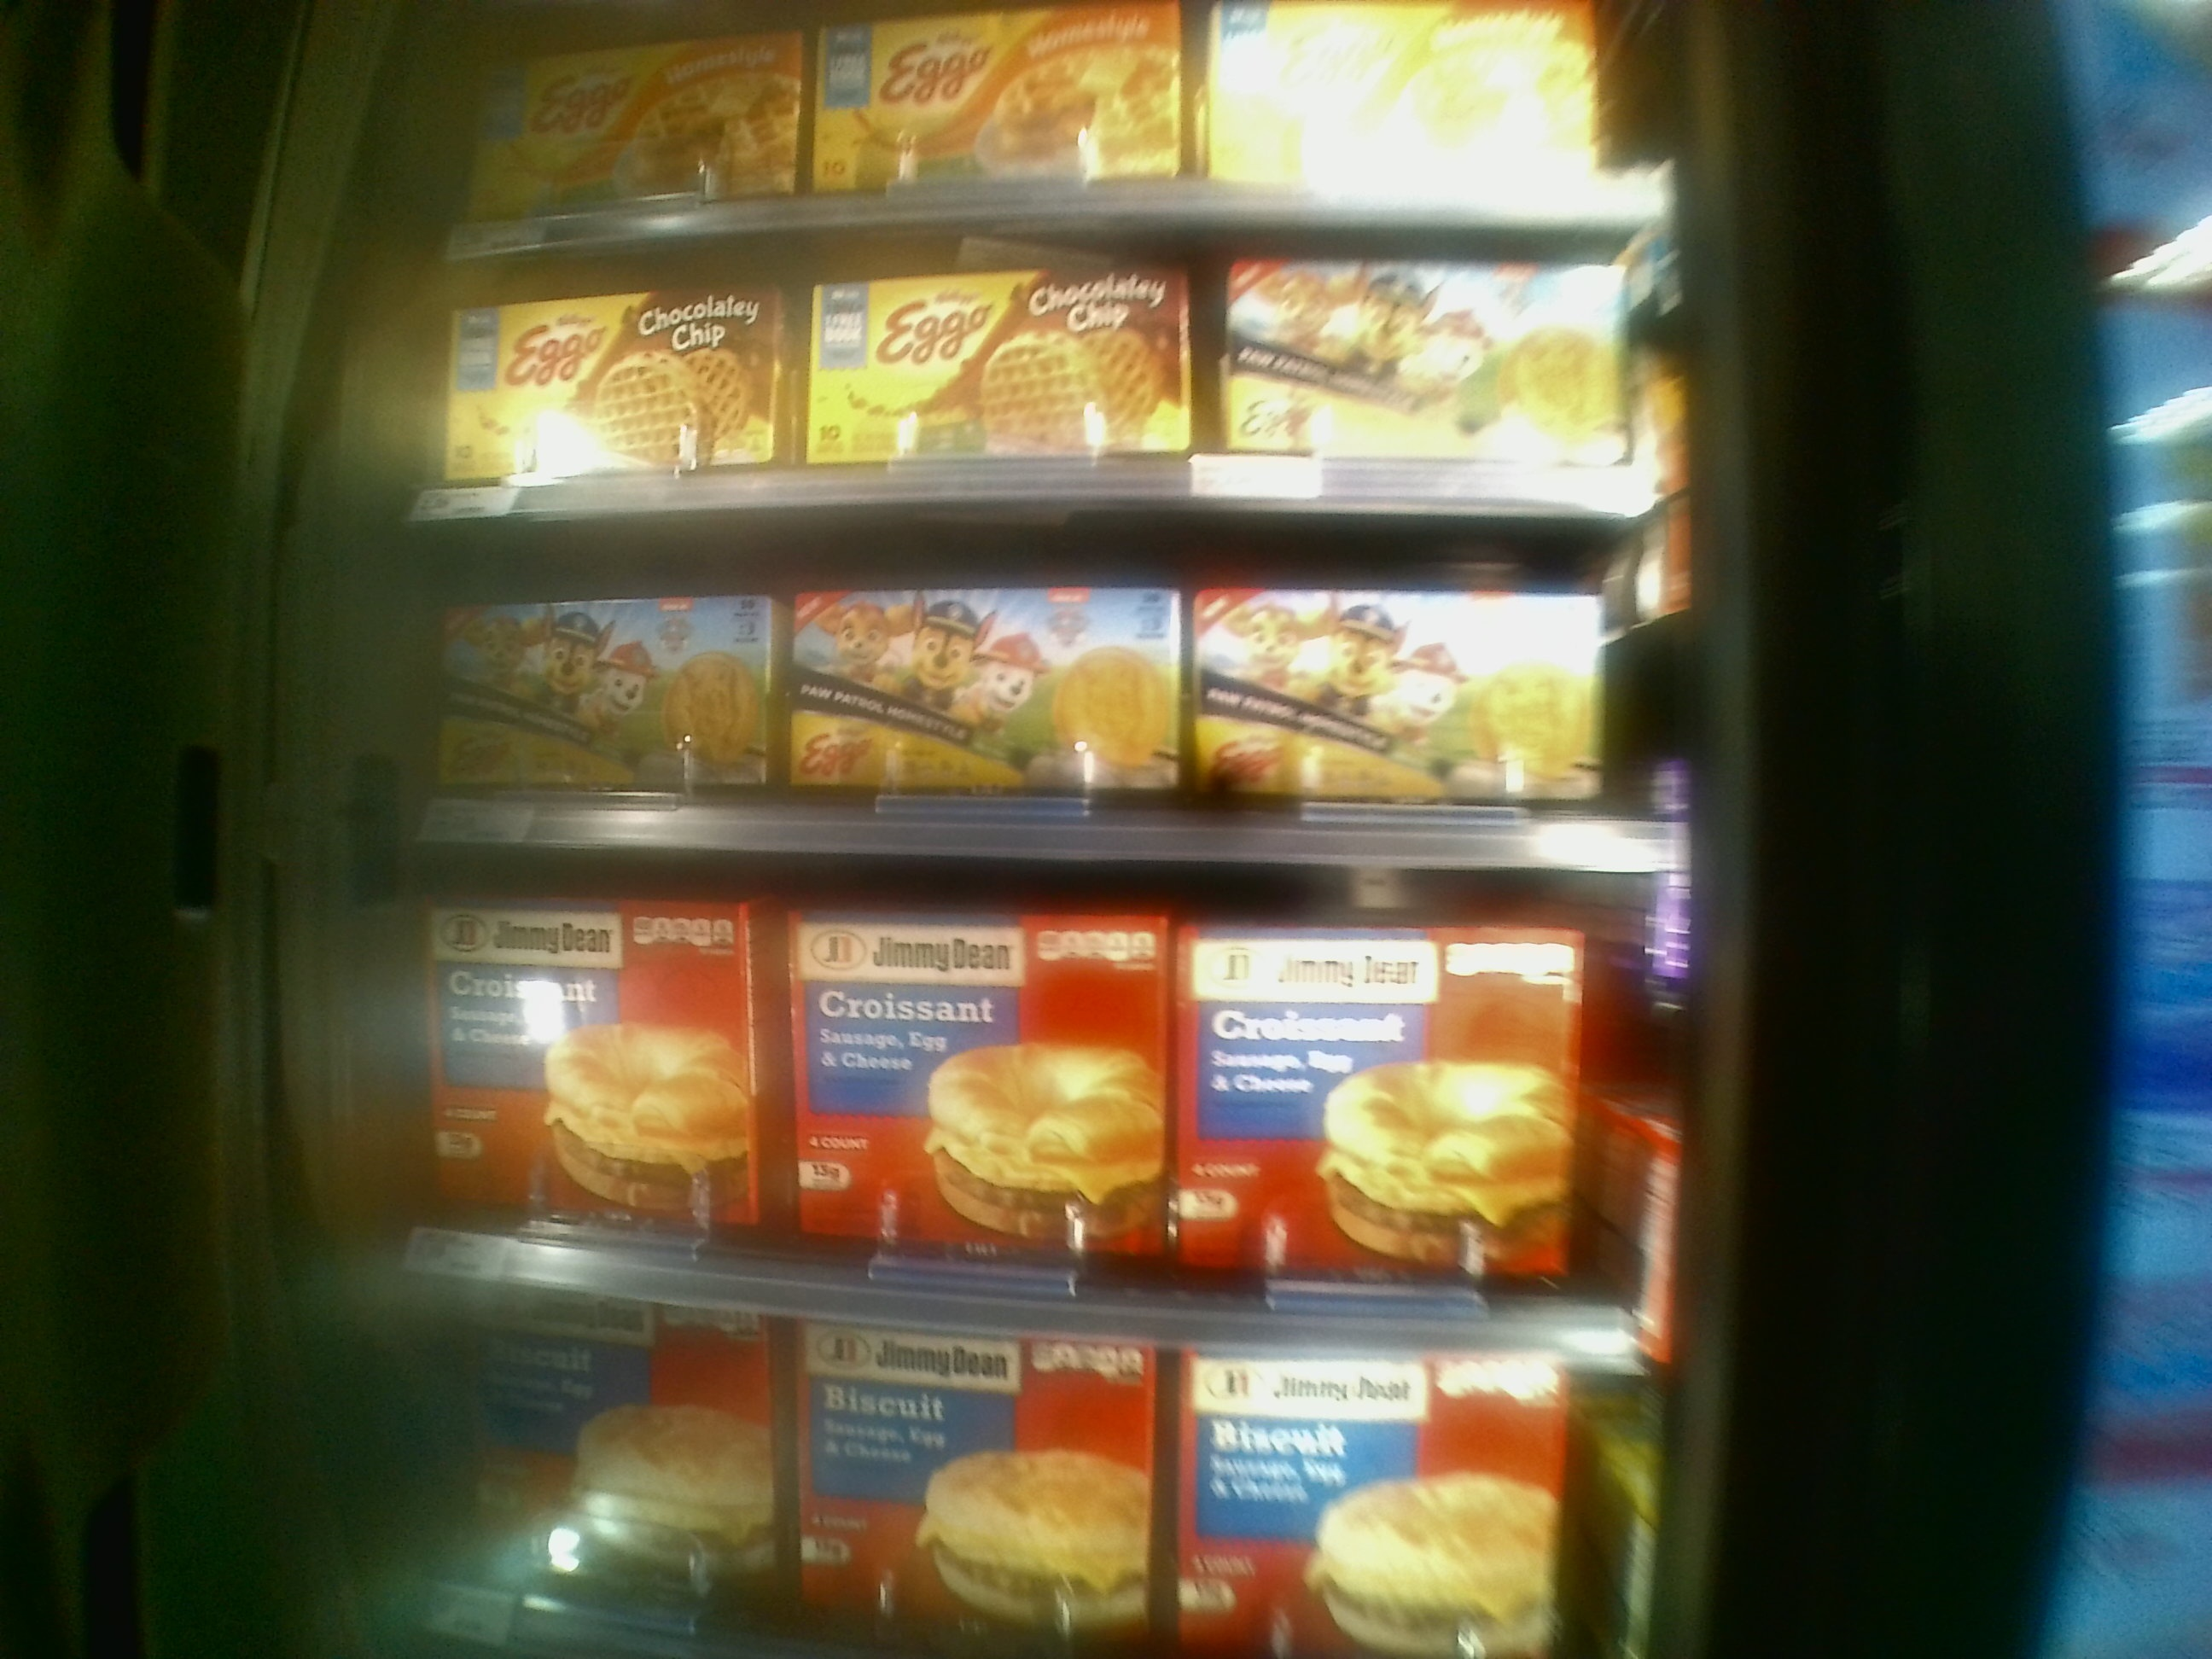frozen-food-shelf: (406, 500, 1691, 871)
